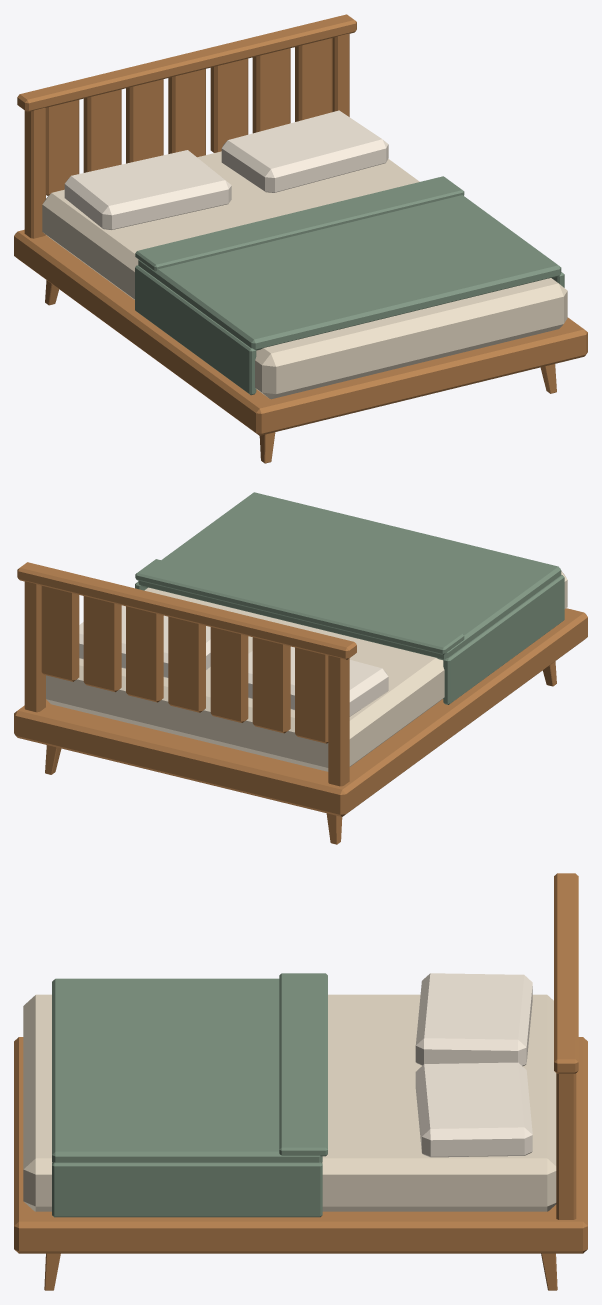
The model's file is 06_bed.glb.
3 renders of one model, top to bottom at view 1: azimuth 30°, elevation 25°; view 2: azimuth 150°, elevation 25°; view 3: azimuth 270°, elevation 25°, orthographic. The views are drawn at different scales.
Parts seen in each view (by area): view 1: Sage_folded_duvet, Inset_mattress, Oak_platform, Cream_pillow.001, Cream_pillow, Sage_duvet_fold, Headboard_crown, Duvet_side_drop, Vertical_headboard_slat_04, Vertical_headboard_slat_03, Vertical_headboard_slat_05, Vertical_headboard_slat_01 (+5 smaller); view 2: Sage_folded_duvet, Oak_platform, Inset_mattress, Sage_duvet_fold, Headboard_crown, Duvet_side_drop, Vertical_headboard_slat_05, Vertical_headboard_slat_01, Vertical_headboard_slat_06, Vertical_headboard_slat_02, Vertical_headboard_slat_03, Vertical_headboard_slat_04 (+5 smaller); view 3: Sage_folded_duvet, Inset_mattress, Oak_platform, Duvet_side_drop.001, Cream_pillow.001, Cream_pillow, Sage_duvet_fold, Headboard_crown, Headboard_post.001.
Part boxes in pixels (x1,y1,x2,y2): Sage_folded_duvet: (138, 195, 561, 350); Inset_mattress: (42, 151, 567, 399); Oak_platform: (14, 229, 587, 435); Cream_pillow.001: (221, 110, 388, 192); Cream_pillow: (64, 150, 231, 229); Sage_duvet_fold: (135, 176, 464, 271); Headboard_crown: (17, 14, 356, 112); Duvet_side_drop: (135, 265, 256, 395); Vertical_headboard_slat_04: (210, 58, 248, 152); Vertical_headboard_slat_03: (168, 69, 205, 157); Vertical_headboard_slat_05: (252, 48, 290, 133); Vertical_headboard_slat_01: (83, 89, 121, 172); Sage_folded_duvet: (138, 492, 561, 659); Oak_platform: (14, 608, 587, 816); Inset_mattress: (46, 571, 567, 771); Sage_duvet_fold: (135, 559, 464, 654); Headboard_crown: (17, 562, 356, 659); Duvet_side_drop: (443, 575, 564, 704); Vertical_headboard_slat_05: (83, 596, 121, 692); Vertical_headboard_slat_01: (252, 637, 290, 733); Vertical_headboard_slat_06: (41, 586, 79, 681); Vertical_headboard_slat_02: (210, 627, 248, 722); Vertical_headboard_slat_03: (168, 616, 205, 712); Vertical_headboard_slat_04: (126, 606, 163, 702); Sage_folded_duvet: (52, 978, 322, 1162); Inset_mattress: (23, 994, 556, 1211); Oak_platform: (14, 1037, 587, 1253); Duvet_side_drop.001: (52, 1162, 322, 1217); Cream_pillow.001: (415, 1062, 532, 1157); Cream_pillow: (415, 973, 532, 1066); Sage_duvet_fold: (279, 973, 327, 1156); Headboard_crown: (554, 873, 578, 1073); Headboard_post.001: (556, 1073, 576, 1219).
Bounding box in the file's own units: 1.65 × 0.985 × 2.12.
